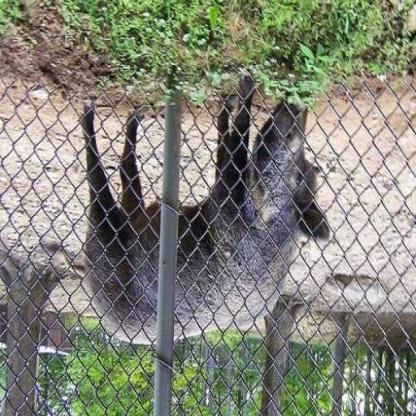boar: (119, 105, 348, 353)
